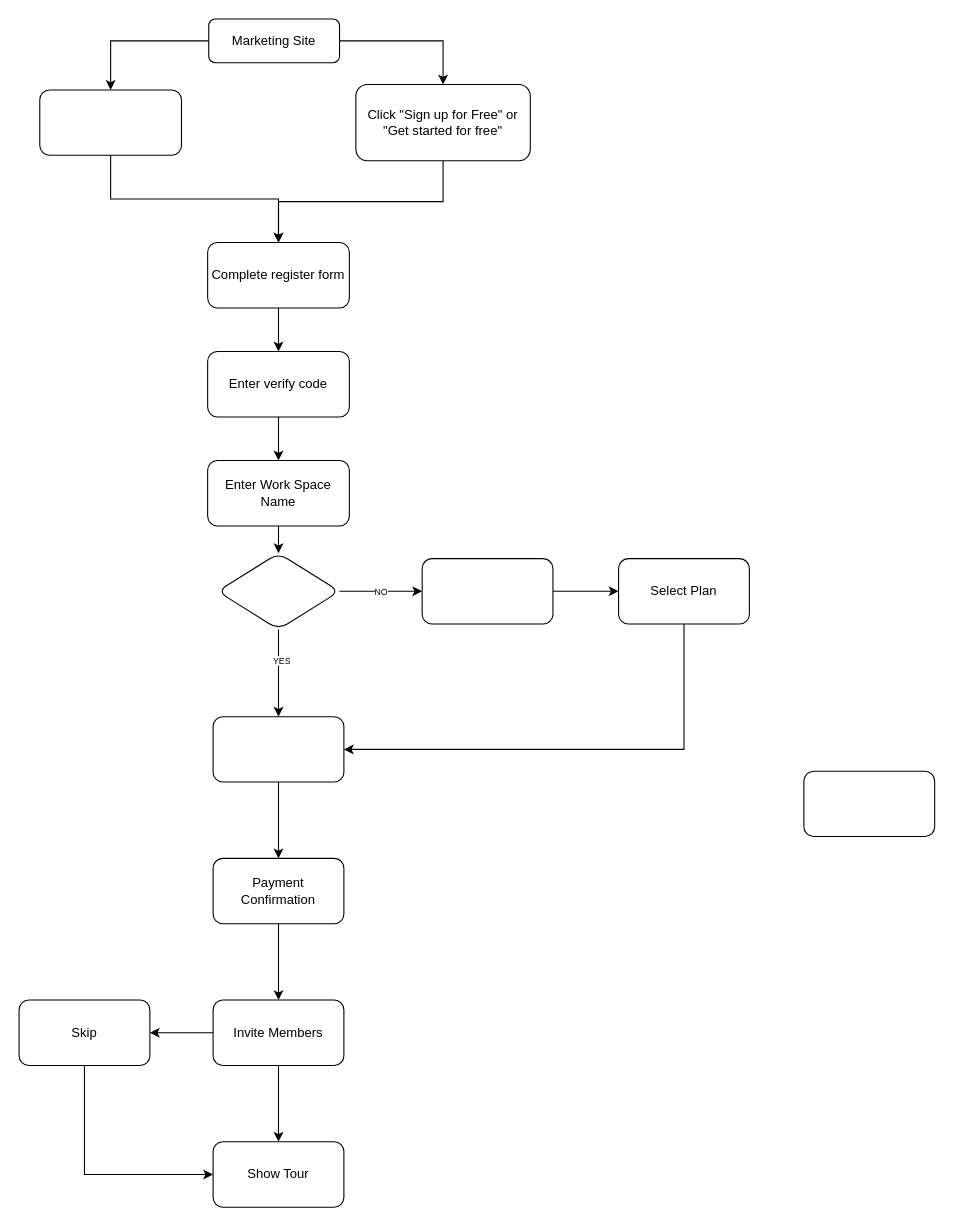
The diagram is 954 pixels wide and 1226 high, and some of its shapes have lost their labels. Here are the shapes that lost their labels. From the top down, the centre of each, then its label:
the point at 110,122: Click "Buy Standard" or "Buy Plus"
the point at 277,590: Did user click "Buy Standard" or "Buy Plus"?
the point at 487,591: Work Space Plans
the point at 278,749: Payment form
the point at 869,803: Selection Confirmation
